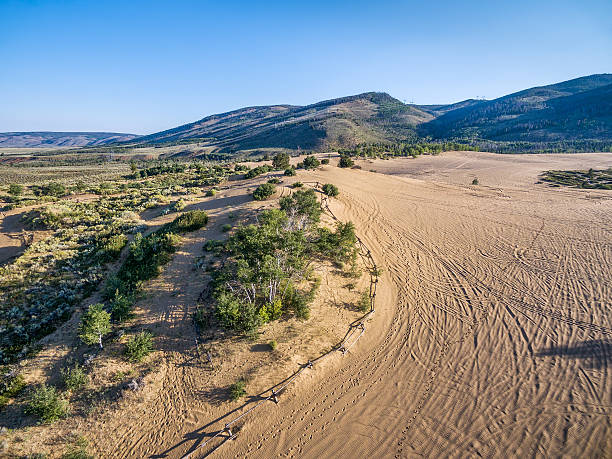vehicle_track: (246, 235, 426, 451), (468, 228, 577, 439), (460, 263, 544, 448), (420, 242, 492, 452)
